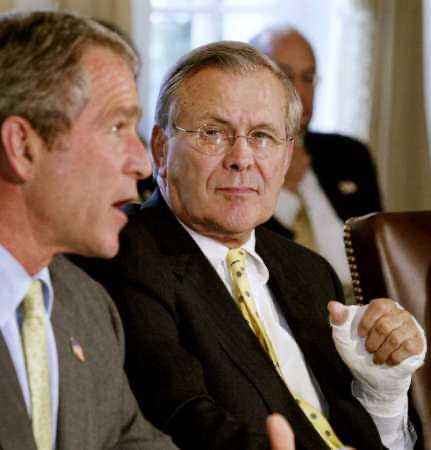Face: (157, 84, 295, 234), (54, 55, 154, 260), (268, 39, 325, 132)
